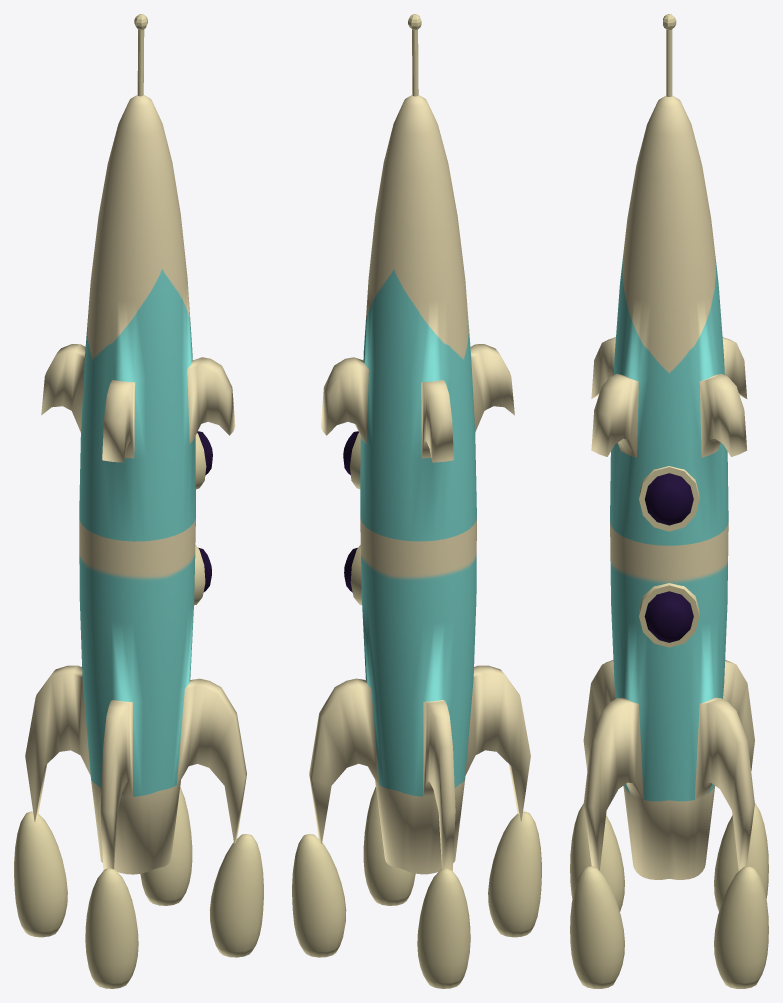
Rendered from coheteescenario.fbx.
3 views of the same model, side by side, from view 1: azimuth 30°, elevation 25°; view 2: azimuth 150°, elevation 25°; view 3: azimuth 270°, elevation 25° (orthographic).
Visible parts, largest first — view 1: Cylinder.001; view 2: Cylinder.001; view 3: Cylinder.001.
Boxes of the visible parts, bbox=[...] form: Cylinder.001: bbox=[14, 14, 263, 988]; Cylinder.001: bbox=[292, 14, 541, 988]; Cylinder.001: bbox=[570, 14, 768, 988].
Bounding box in the file's own units: 337 × 1747 × 335.
3 materials, 1 textured.
